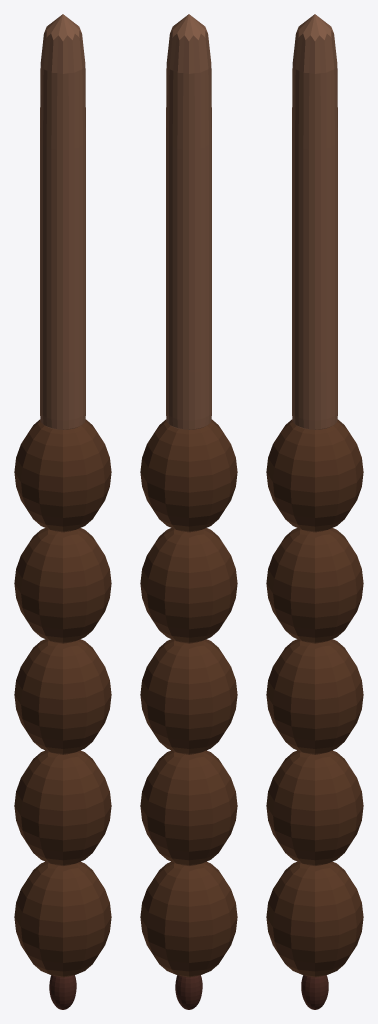
The model's file is Wand 216.glb.
3 renders of one model, left to right at view 1: azimuth 30°, elevation 25°; view 2: azimuth 210°, elevation 25°; view 3: azimuth 270°, elevation 25°, orthographic.
Parts seen in each view (by area): view 1: GeneratedWand; view 2: GeneratedWand; view 3: GeneratedWand.
Part boxes in pixels (x1=…): GeneratedWand: x1=14, y1=14, x2=111, y2=1009; GeneratedWand: x1=140, y1=14, x2=237, y2=1009; GeneratedWand: x1=266, y1=14, x2=363, y2=1009.
Bounding box in the file's own units: 0.0447 × 0.5074 × 0.0449.
